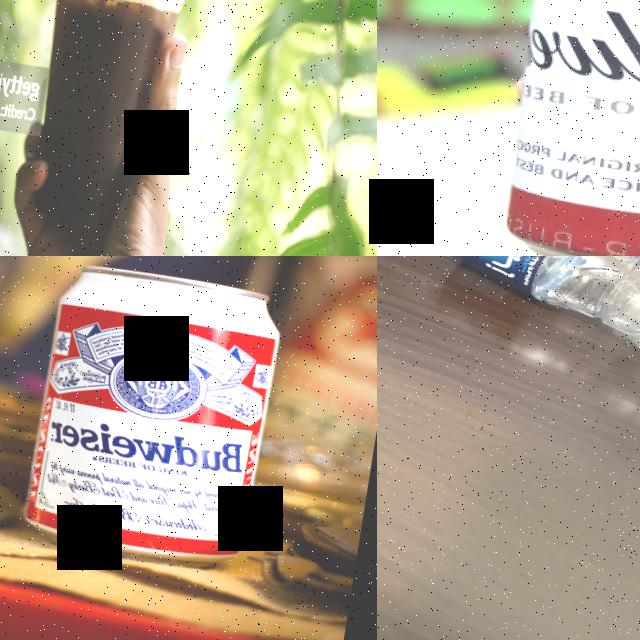bottle: (377, 256, 640, 391)
can: (14, 258, 290, 577), (480, 0, 640, 256)
cup: (8, 0, 216, 241)
